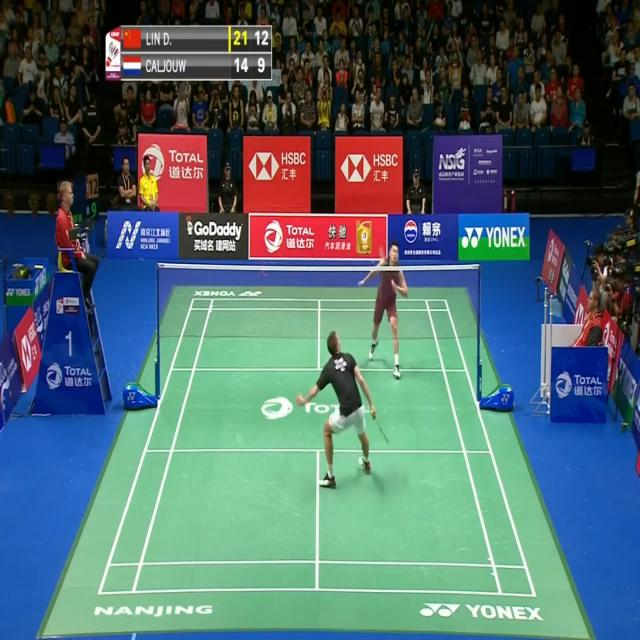Player1: (296, 330, 392, 492)
Player2: (359, 238, 410, 377)
